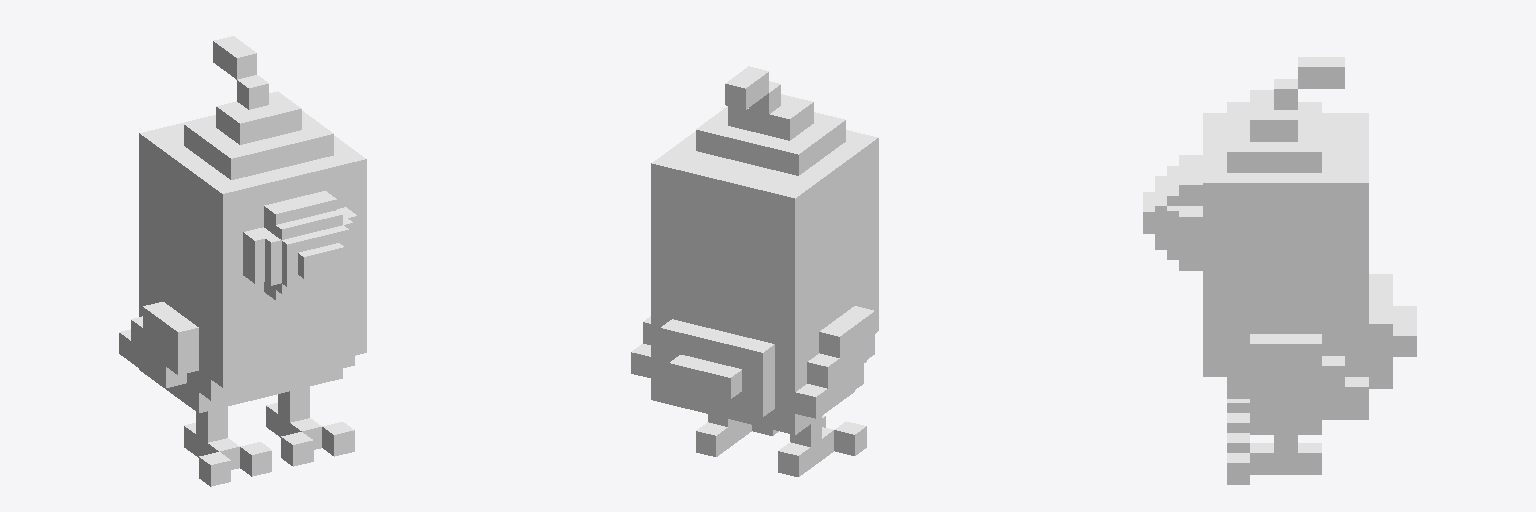
Rendered from civciv.obj.
The picture shows the model from 3 angles: view 1: azimuth 30°, elevation 25°; view 2: azimuth 150°, elevation 25°; view 3: azimuth 270°, elevation 25°; orthographic projection.
Size of the model in its own units: 18 by 36 by 23.